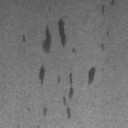red iron: (42, 18, 66, 54), (58, 72, 74, 120), (88, 67, 96, 84), (39, 65, 45, 85), (42, 106, 48, 116), (102, 5, 105, 16), (22, 34, 26, 42), (110, 0, 114, 6), (72, 48, 76, 54), (101, 43, 104, 50)
